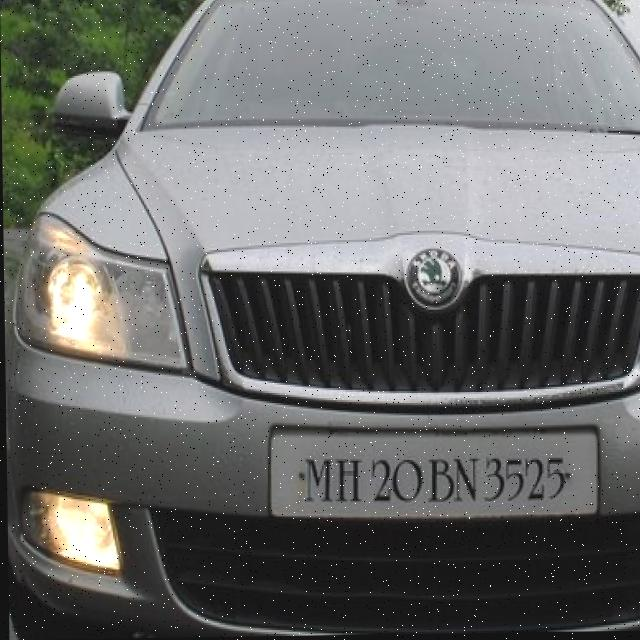plate: (264, 421, 599, 523)
